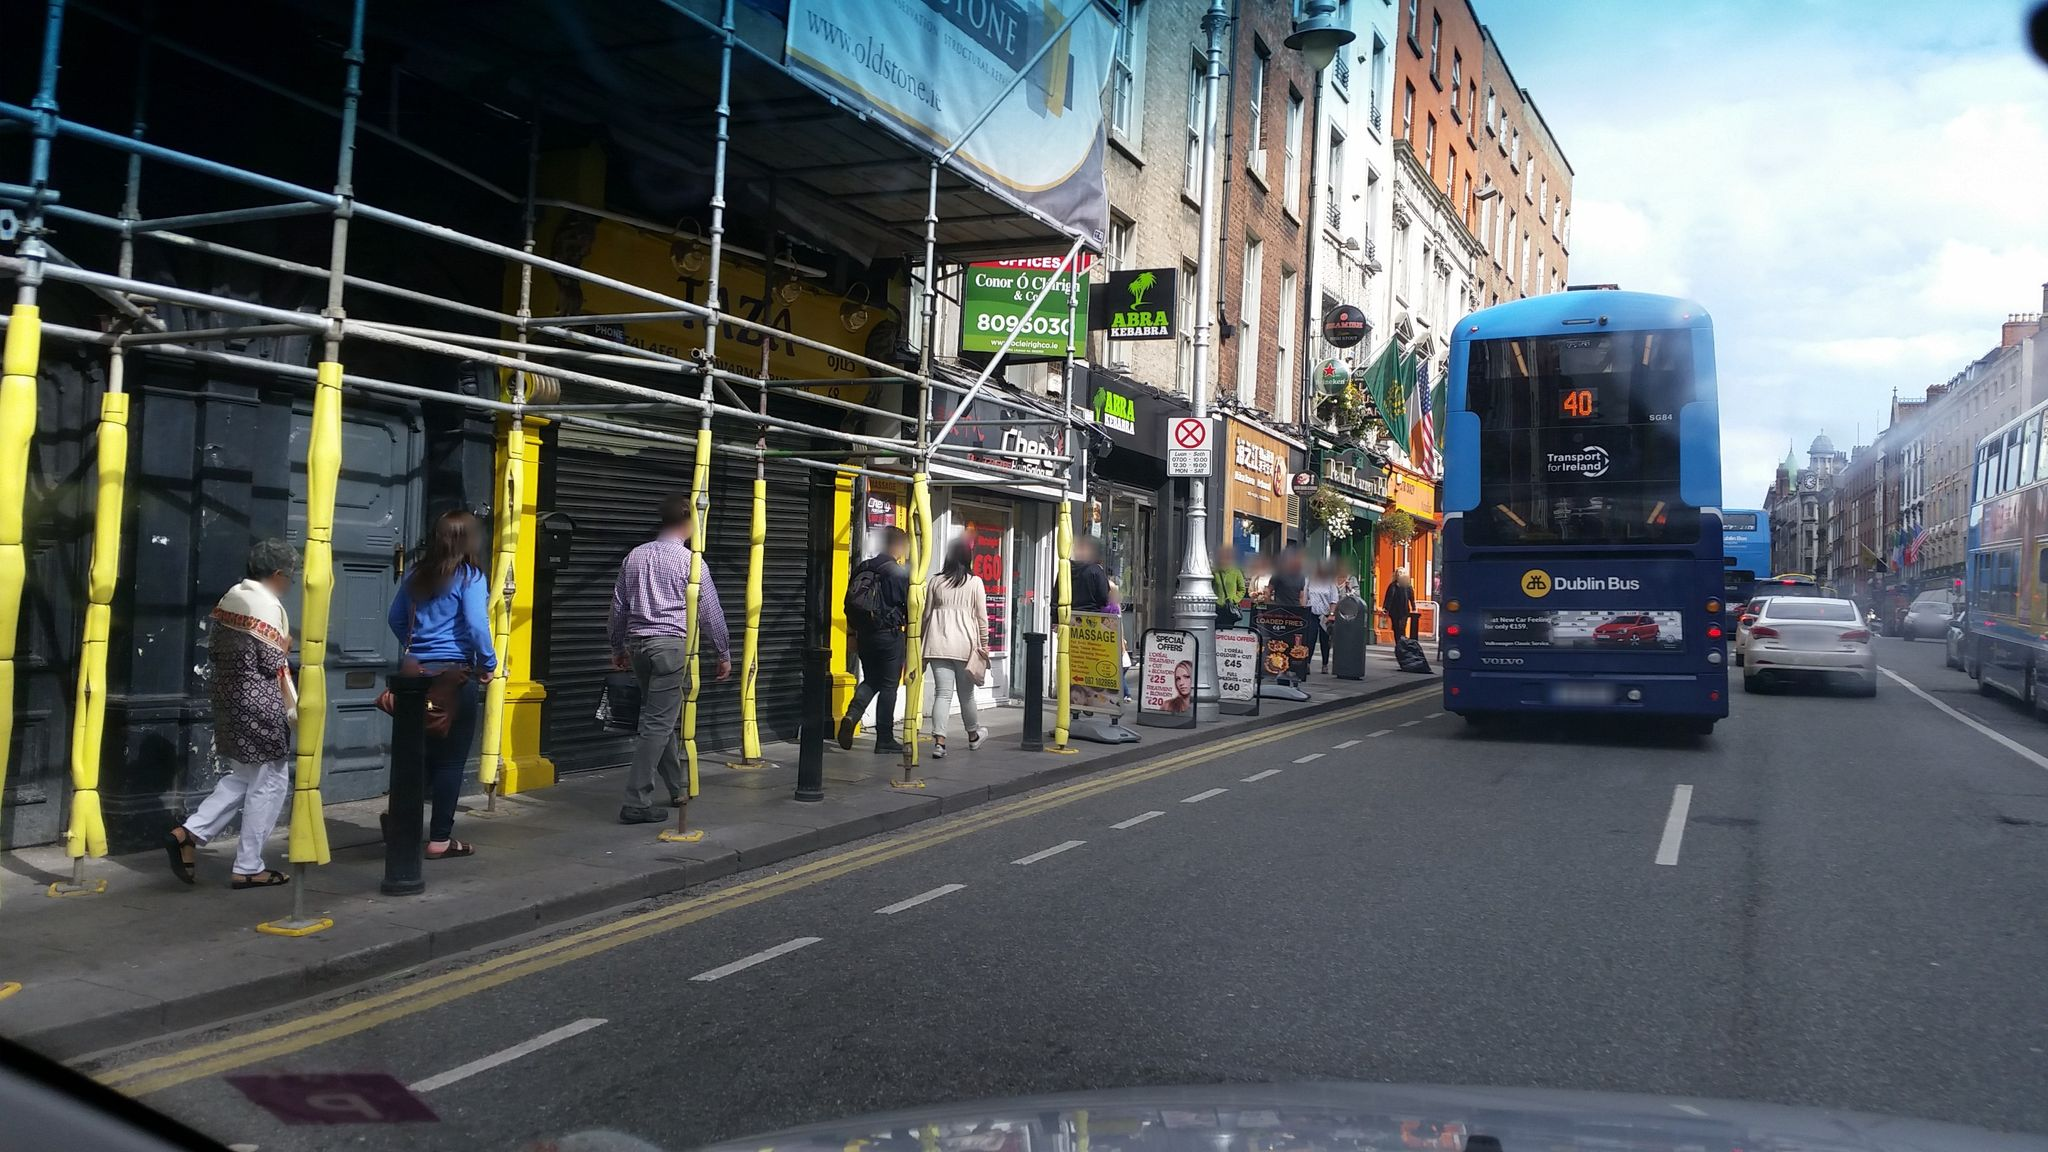property sign: (941, 255, 1107, 383)
vinyl banner: (729, 1, 1117, 260)
